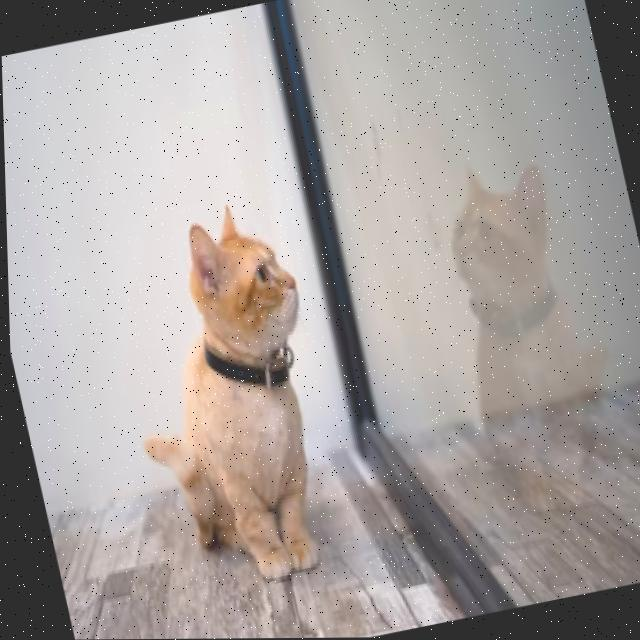Munchkin: (90, 189, 361, 603)
